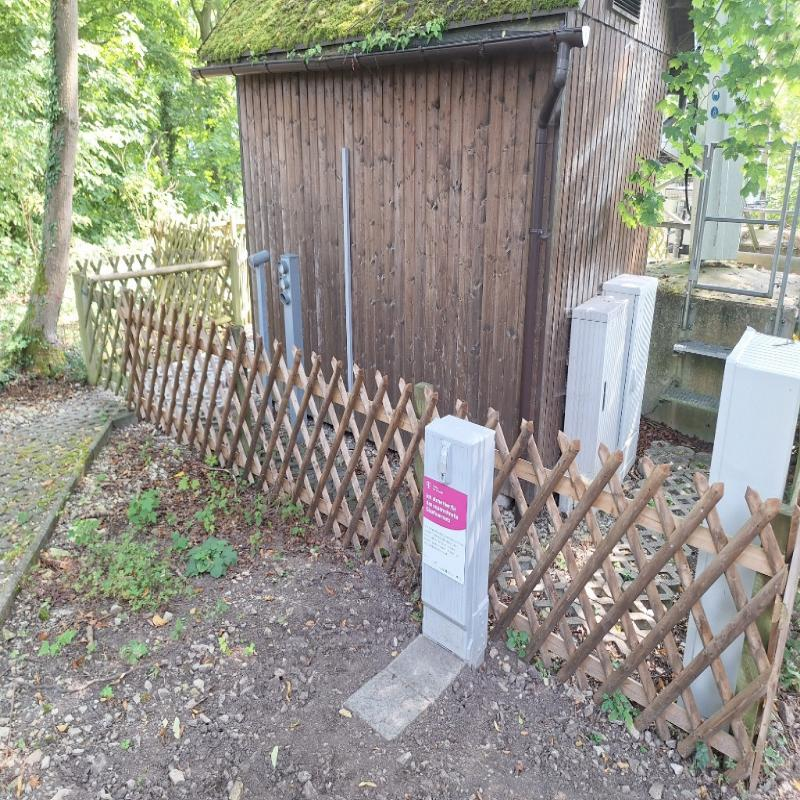NT-Gehause: (419, 414, 495, 663)
Steaker: (424, 477, 468, 584)
